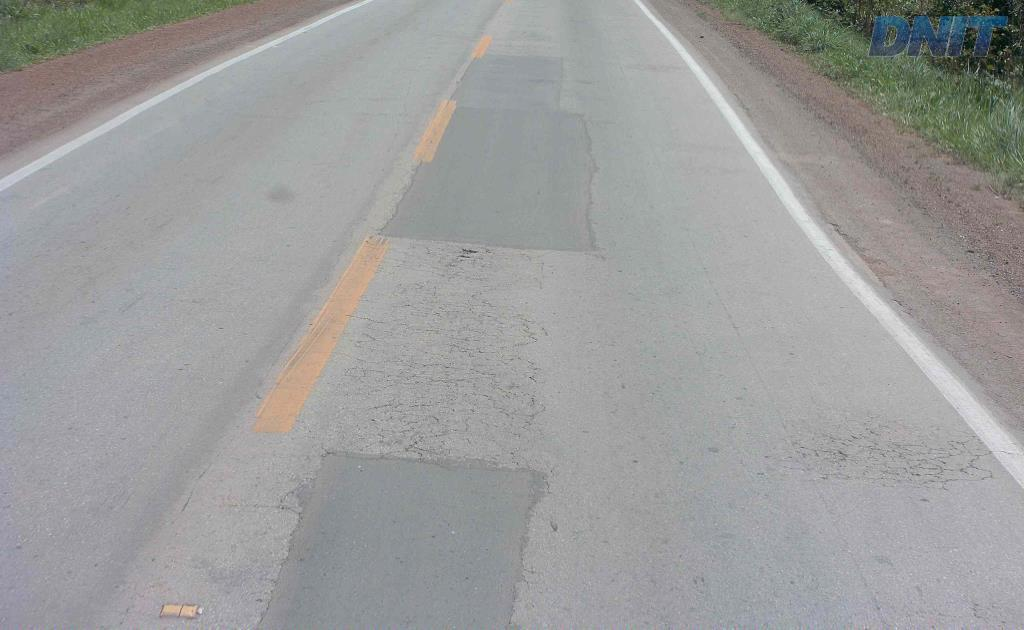crack: (339, 435, 480, 470)
